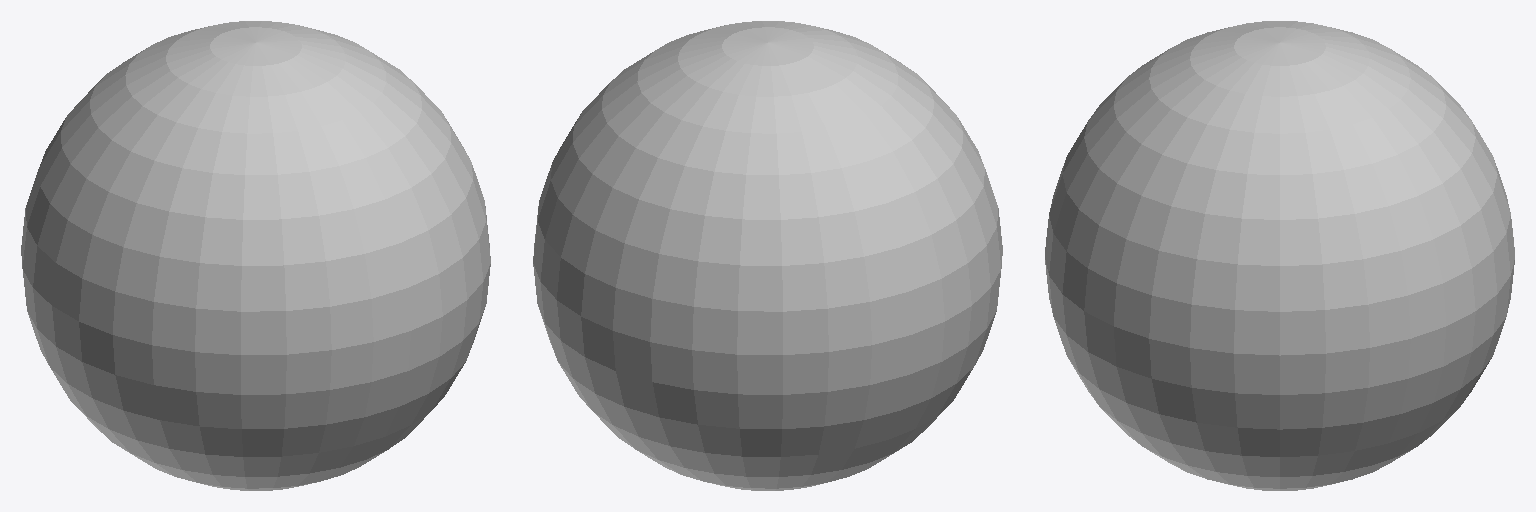
The picture shows the model from 3 angles: view 1: azimuth 30°, elevation 25°; view 2: azimuth 150°, elevation 25°; view 3: azimuth 270°, elevation 25°; orthographic projection.
Visible parts, largest first — view 1: winged_victory_with_big_sword; view 2: winged_victory_with_big_sword; view 3: winged_victory_with_big_sword.
Boxes of the visible parts, x1=… form: winged_victory_with_big_sword: x1=21, y1=21, x2=490, y2=490; winged_victory_with_big_sword: x1=533, y1=21, x2=1002, y2=490; winged_victory_with_big_sword: x1=1045, y1=21, x2=1514, y2=490.
Size of the model in its own units: 2 by 2 by 2.